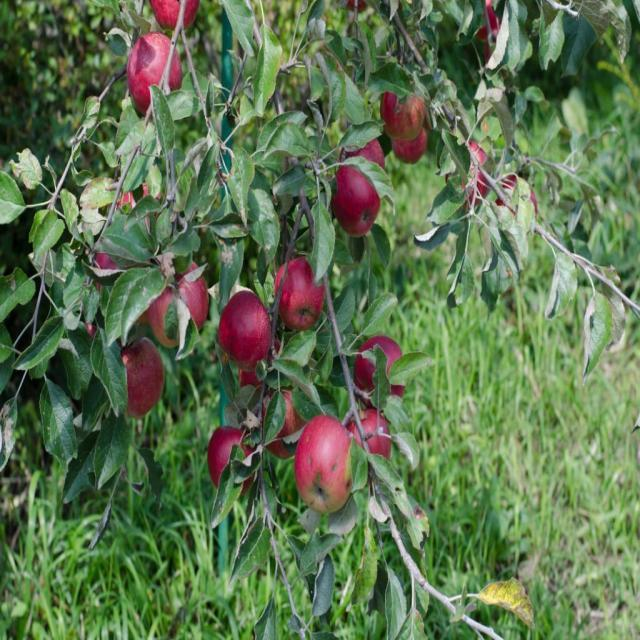Red Apple: (301, 418, 360, 511), (157, 266, 212, 343), (119, 342, 165, 417), (278, 258, 327, 328), (337, 162, 383, 236), (222, 297, 268, 364), (129, 37, 174, 101), (207, 419, 250, 485), (262, 386, 302, 454), (360, 339, 406, 397), (356, 408, 392, 462), (383, 96, 423, 139), (153, 1, 198, 32), (463, 142, 490, 189), (400, 129, 431, 168)
